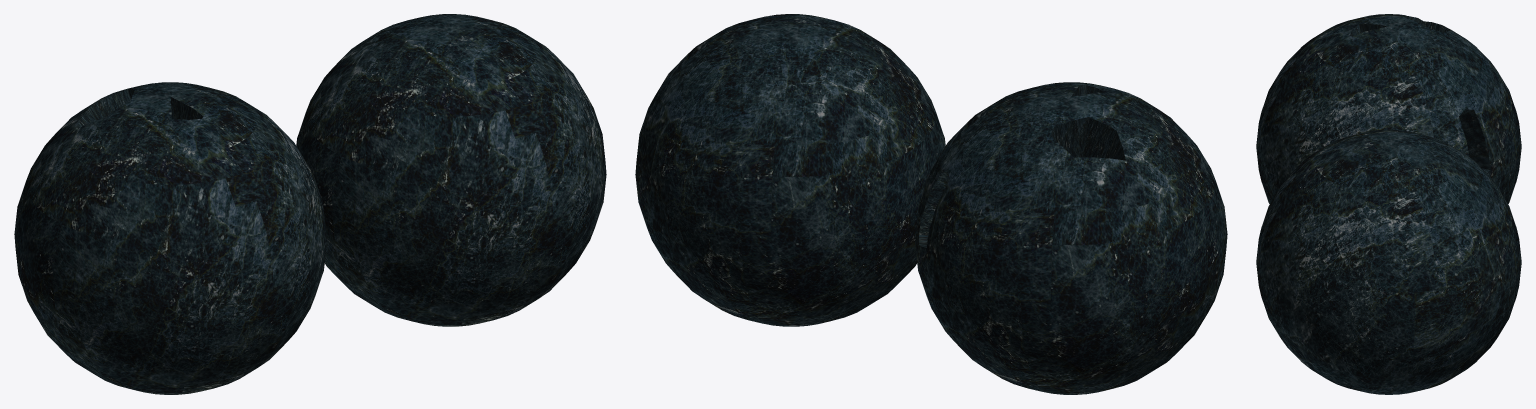
File: sphere fractured.glb
The picture shows the model from 3 angles, left to right: view 1: azimuth 30°, elevation 25°; view 2: azimuth 150°, elevation 25°; view 3: azimuth 270°, elevation 25°; orthographic projection. The views are drawn at different scales.
Visible parts, largest first — view 1: Sphere, Sphere_cell.084 -rigid, Sphere_cell.075 -rigid, Sphere_cell.055 -rigid, Sphere_cell.014 -rigid, Sphere_cell.033 -rigid, Sphere_cell.066 -rigid, Sphere_cell.045 -rigid, Sphere_cell.007 -rigid, Sphere_cell.042 -rigid, Sphere_cell.073 -rigid, Sphere_cell.077 -rigid (+27 smaller); view 2: Sphere, Sphere_cell.058 -rigid, Sphere_cell.063 -rigid, Sphere_cell.039 -rigid, Sphere_cell.007 -rigid, Sphere_cell.009 -rigid, Sphere_cell.006 -rigid, Sphere_cell.059 -rigid, Sphere_cell.067 -rigid, Sphere_cell.016 -rigid, Sphere_cell.083 -rigid, Sphere_cell.025 -rigid (+28 smaller); view 3: Sphere, Sphere_cell.045 -rigid, Sphere_cell.042 -rigid, Sphere_cell.050 -rigid, Sphere_cell.061 -rigid, Sphere_cell.074 -rigid, Sphere_cell.041 -rigid, Sphere_cell.097 -rigid, Sphere_cell.032 -rigid, Sphere_cell.057 -rigid, Sphere_cell.008 -rigid, Sphere_cell.093 -rigid (+23 smaller).
Part boxes in pixels (x1,y1,x2,y2): Sphere: [296, 14, 606, 326]; Sphere_cell.084 -rigid: [186, 223, 294, 327]; Sphere_cell.075 -rigid: [118, 210, 190, 304]; Sphere_cell.055 -rigid: [118, 304, 205, 375]; Sphere_cell.014 -rigid: [180, 169, 285, 230]; Sphere_cell.033 -rigid: [188, 217, 285, 296]; Sphere_cell.066 -rigid: [68, 283, 152, 360]; Sphere_cell.045 -rigid: [253, 128, 316, 212]; Sphere_cell.007 -rigid: [50, 117, 128, 185]; Sphere_cell.042 -rigid: [285, 188, 326, 304]; Sphere_cell.073 -rigid: [49, 185, 118, 258]; Sphere_cell.077 -rigid: [80, 178, 144, 252]; Sphere: [635, 14, 945, 326]; Sphere_cell.058 -rigid: [977, 253, 1084, 317]; Sphere_cell.063 -rigid: [1058, 188, 1150, 301]; Sphere_cell.039 -rigid: [996, 180, 1055, 260]; Sphere_cell.007 -rigid: [1105, 114, 1187, 190]; Sphere_cell.009 -rigid: [1156, 188, 1207, 318]; Sphere_cell.006 -rigid: [1084, 227, 1153, 325]; Sphere_cell.059 -rigid: [1046, 157, 1147, 200]; Sphere_cell.067 -rigid: [1145, 190, 1177, 320]; Sphere_cell.016 -rigid: [1066, 302, 1133, 362]; Sphere_cell.083 -rigid: [1110, 318, 1183, 382]; Sphere_cell.025 -rigid: [957, 271, 1011, 347]; Sphere: [1256, 129, 1521, 394]; Sphere_cell.045 -rigid: [1280, 68, 1361, 147]; Sphere_cell.042 -rigid: [1266, 116, 1321, 191]; Sphere_cell.050 -rigid: [1410, 71, 1465, 125]; Sphere_cell.061 -rigid: [1459, 107, 1504, 169]; Sphere_cell.074 -rigid: [1359, 76, 1418, 114]; Sphere_cell.041 -rigid: [1345, 114, 1425, 136]; Sphere_cell.097 -rigid: [1296, 36, 1360, 81]; Sphere_cell.032 -rigid: [1362, 55, 1410, 99]; Sphere_cell.057 -rigid: [1333, 53, 1374, 99]; Sphere_cell.008 -rigid: [1399, 40, 1440, 73]; Sphere_cell.093 -rigid: [1491, 105, 1518, 160].
Bounding box in the file's own units: 406 × 200 × 200.
1 material, 1 textured.
